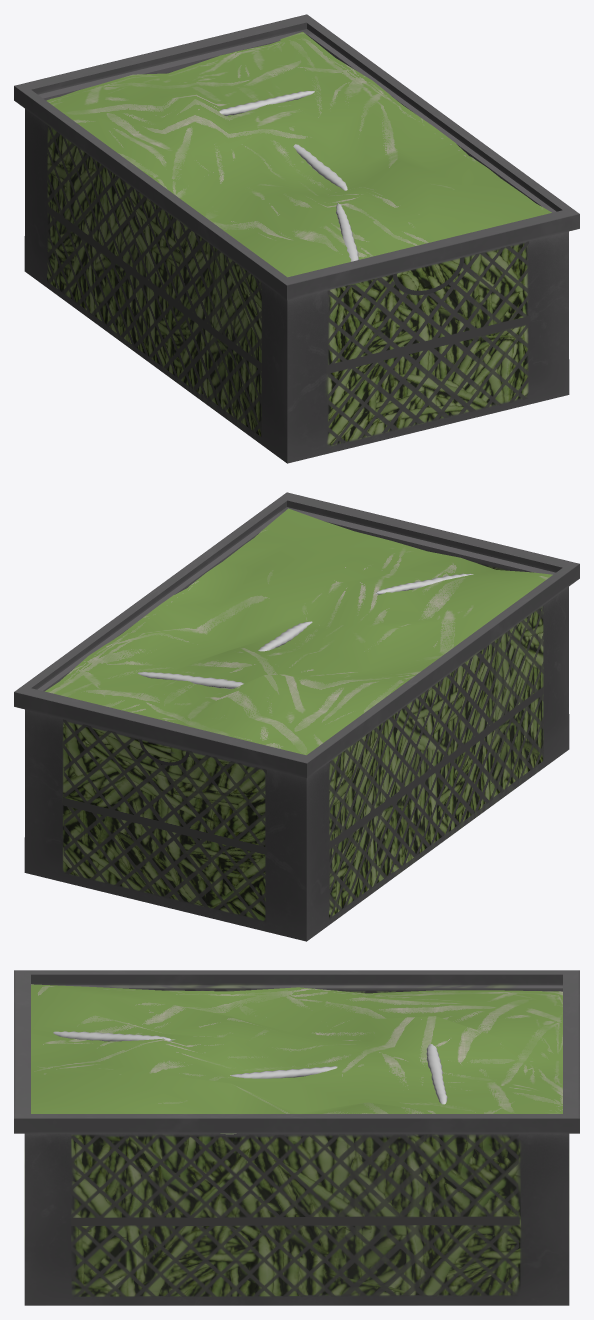
File: canasta de arvejas.fbx
3 views of the same model, one above another, from view 1: azimuth 30°, elevation 25°; view 2: azimuth 150°, elevation 25°; view 3: azimuth 270°, elevation 25° (orthographic). The views are drawn at different scales.
Visible parts, largest first — view 1: caja de arvejas, arvejas plano, Plane.009, Plane.006, Plane.007; view 2: caja de arvejas, arvejas plano, Plane.009; view 3: caja de arvejas, arvejas plano, Plane.007, Plane.006, Plane.009.
Boxes of the visible parts, left/top/right/bottom form: caja de arvejas: left=14, top=14, right=579, bottom=463; arvejas plano: left=46, top=32, right=551, bottom=277; Plane.009: left=219, top=90, right=314, bottom=116; Plane.006: left=293, top=144, right=347, bottom=190; Plane.007: left=336, top=202, right=358, bottom=261; caja de arvejas: left=14, top=492, right=579, bottom=941; arvejas plano: left=45, top=508, right=552, bottom=755; Plane.009: left=137, top=671, right=243, bottom=689; caja de arvejas: left=14, top=970, right=579, bottom=1305; arvejas plano: left=31, top=984, right=562, bottom=1134; Plane.007: left=53, top=1031, right=174, bottom=1041; Plane.006: left=230, top=1066, right=337, bottom=1078; Plane.009: left=426, top=1044, right=447, bottom=1104.
Size of the model in its own units: 47.19 by 29.79 by 76.11.
